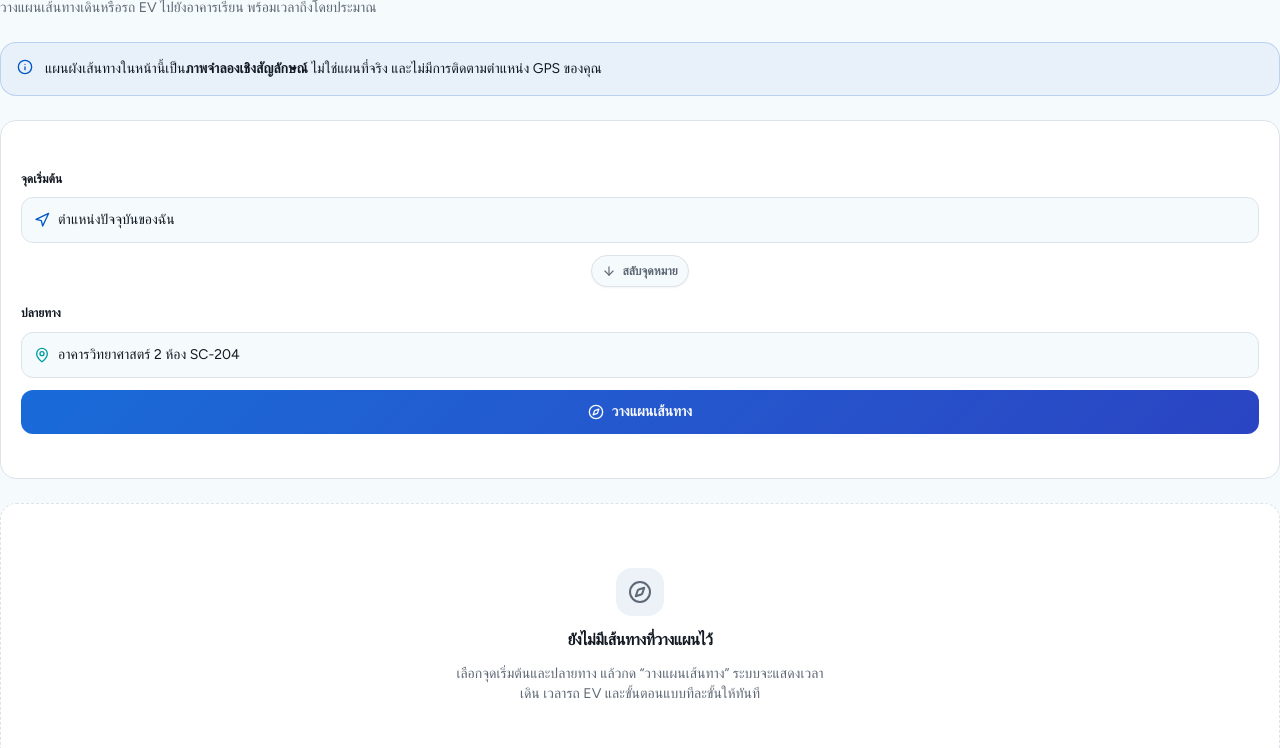
Scenario: Smart Navigation › shows an estimated arrival and an arrive-before-class status
The width and height of the screenshot is (1280, 748).
Replace the text in the field with test id "navigate.origin_input" with "โรงอาหารกลาง" at (652,220), box left=58, top=198, right=1246, bottom=242
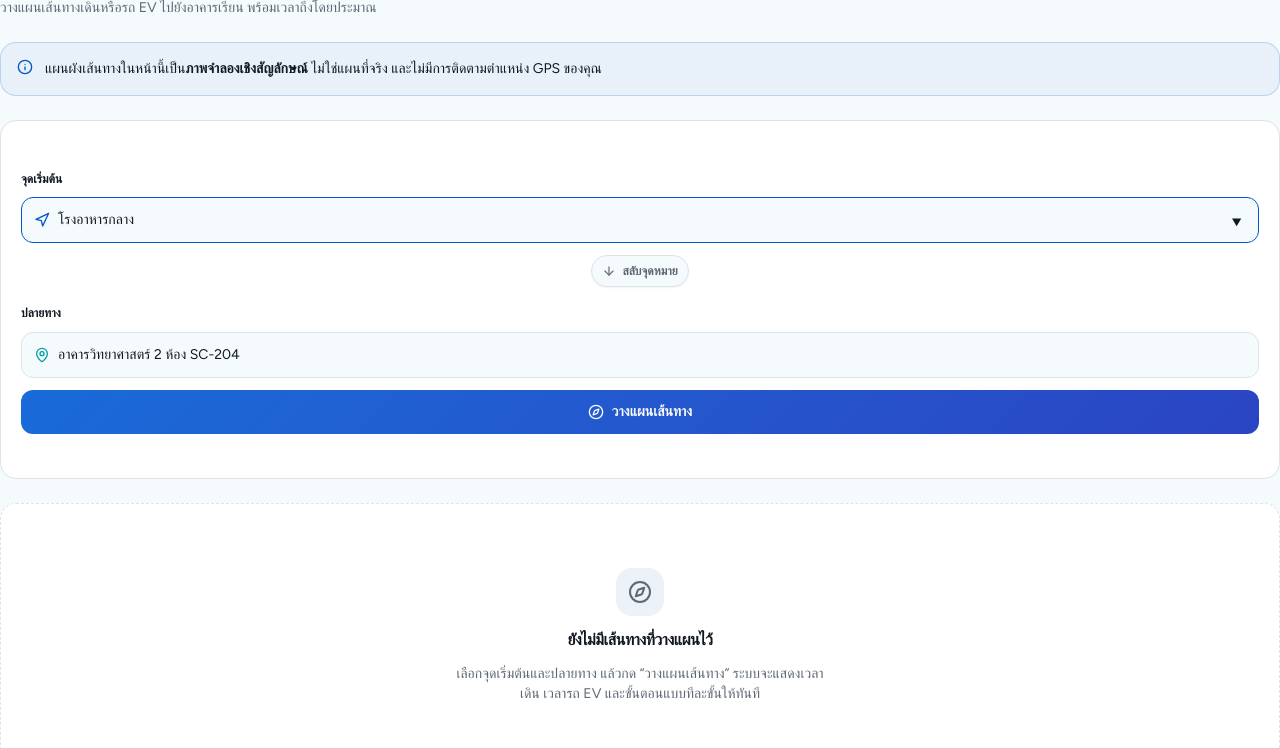
Replace the text in the field with test id "navigate.destination_input" with "SC-204" at (652,354), box left=58, top=332, right=1246, bottom=376
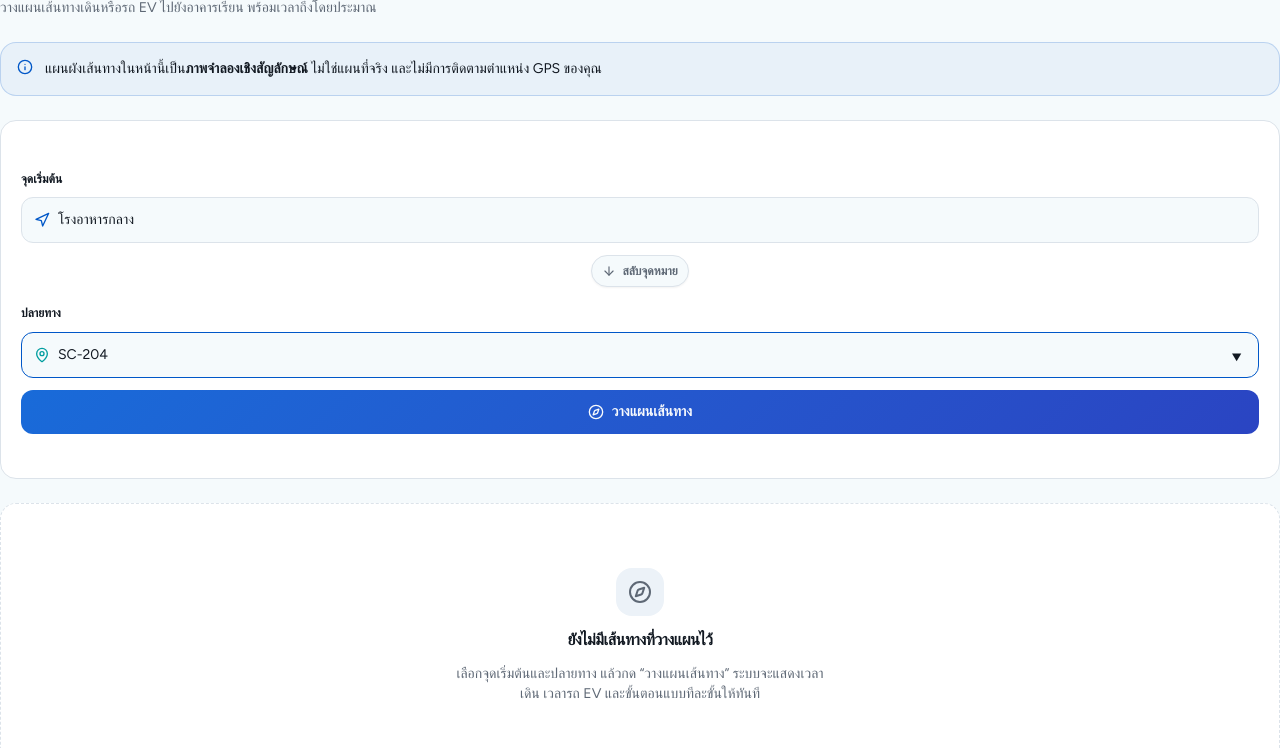
Click the button with test id "navigate.plan_button" at (640,412), box left=21, top=390, right=1259, bottom=434
(page scrolled)
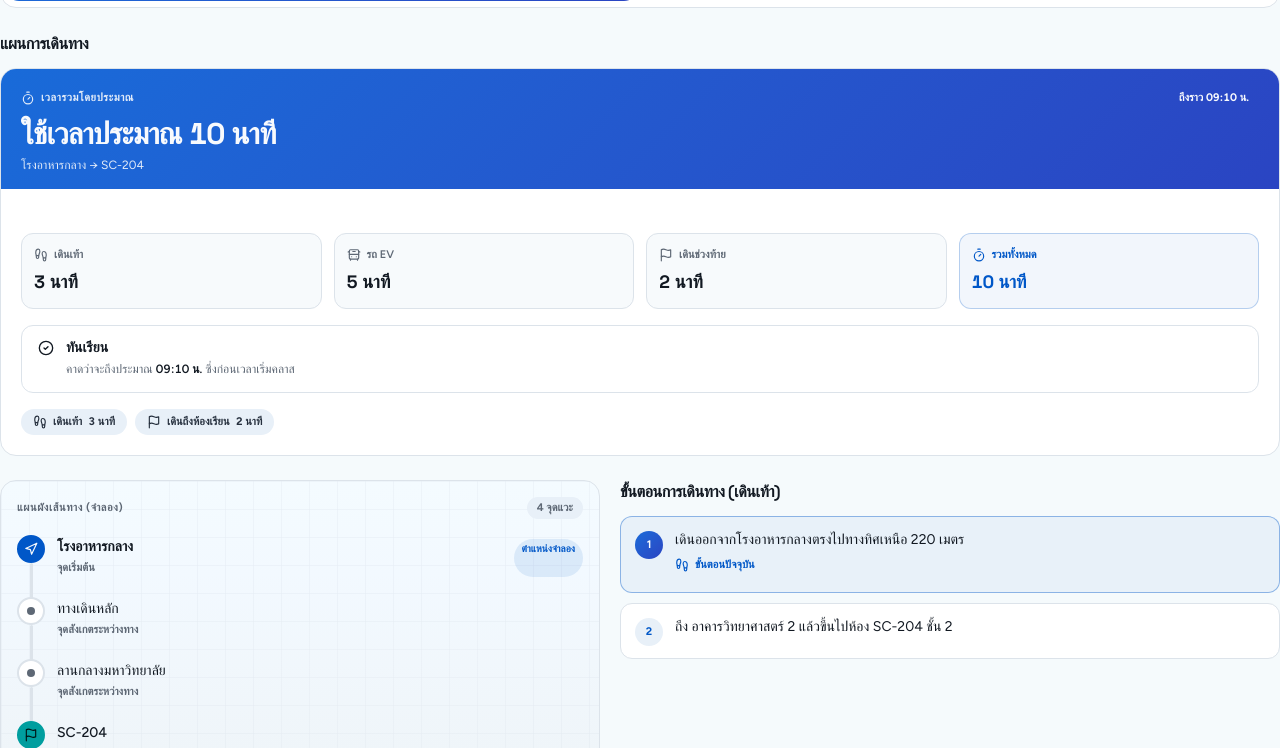
Check: the element with test id "navigate.plan_section" is shown, box left=0, top=32, right=1279, bottom=456
Check: the element with test id "navigate.arrival_status" shows "ทันเรียน", box left=66, top=339, right=108, bottom=356
